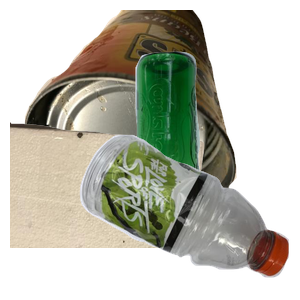glass: (129, 49, 300, 229)
metal: (22, 10, 251, 190)
plastic: (77, 132, 300, 300)
trash: (10, 120, 207, 300)
